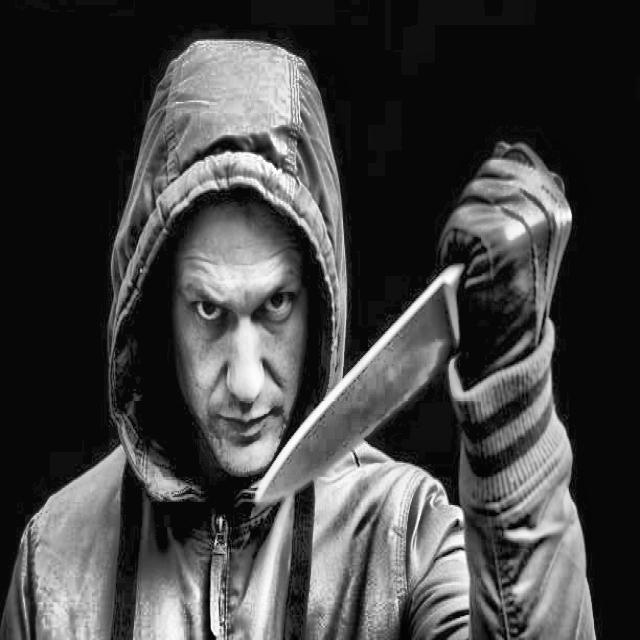pisau: (244, 134, 588, 510)
